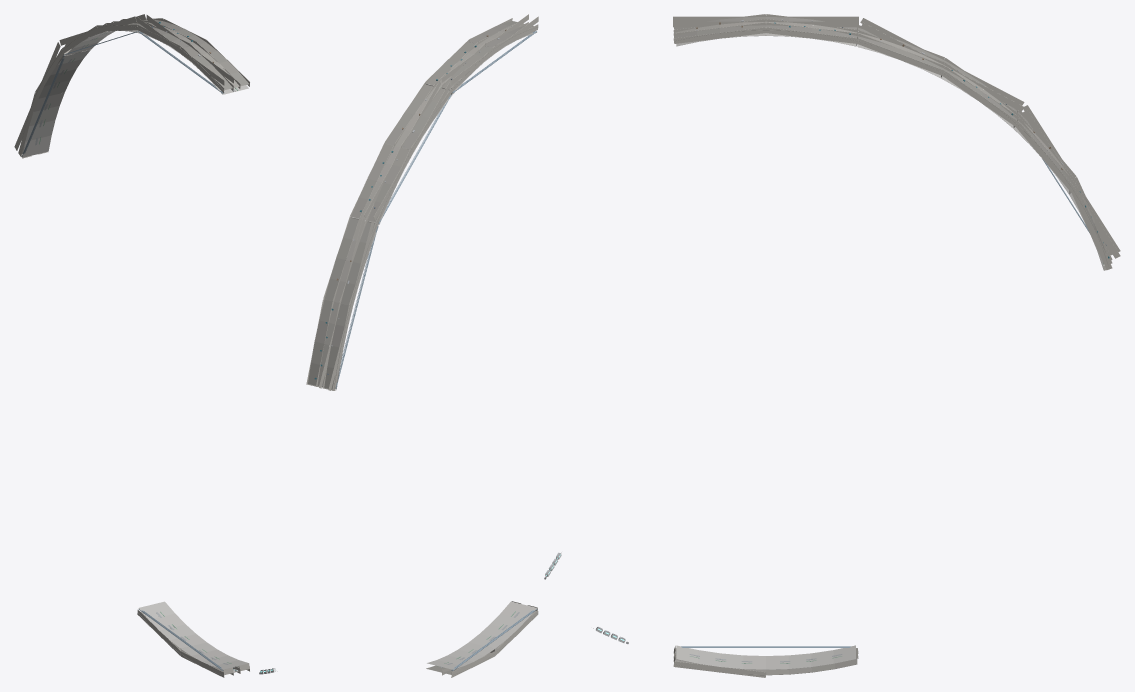
File: xuanshu_interior_C19.glb
3 views of the same model, side by side, from view 1: azimuth 30°, elevation 25°; view 2: azimuth 150°, elevation 25°; view 3: azimuth 270°, elevation 25° (orthographic). The views are drawn at different scales.
Visible parts, largest first — view 1: UNIT-MKT-001, UNIT-MED-003_S97718, UNIT-MKT-003; view 2: UNIT-MKT-001, UNIT-MED-003_S97718, UNIT-MKT-003; view 3: UNIT-MKT-001, UNIT-MED-003_S97718, UNIT-MKT-003.
Part boxes in pixels (x1,y1,x2,y2): UNIT-MKT-001: [18, 18, 249, 158]; UNIT-MED-003_S97718: [137, 601, 277, 677]; UNIT-MKT-003: [14, 14, 233, 150]; UNIT-MKT-001: [306, 18, 538, 390]; UNIT-MED-003_S97718: [426, 552, 561, 677]; UNIT-MKT-003: [319, 14, 538, 390]; UNIT-MKT-001: [673, 14, 1112, 270]; UNIT-MED-003_S97718: [591, 626, 858, 677]; UNIT-MKT-003: [673, 16, 1120, 258].
Bounding box in the file's own units: 17.31 × 382 × 282.
